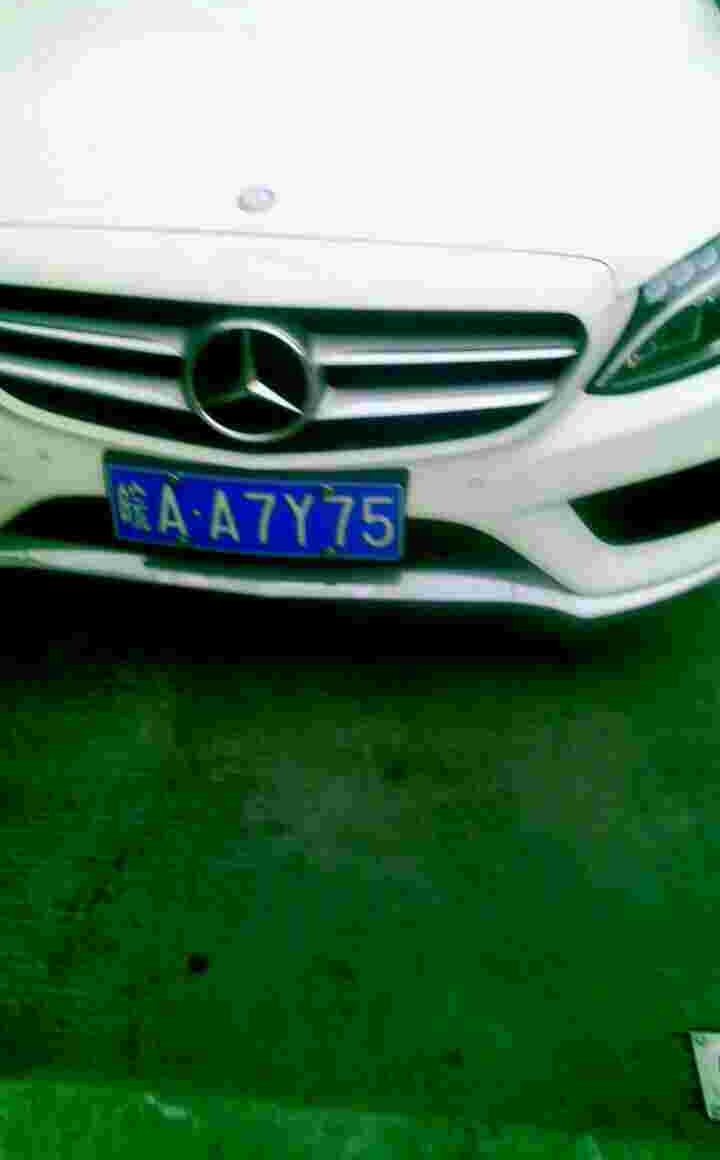license_plate: (100, 456, 422, 578)
